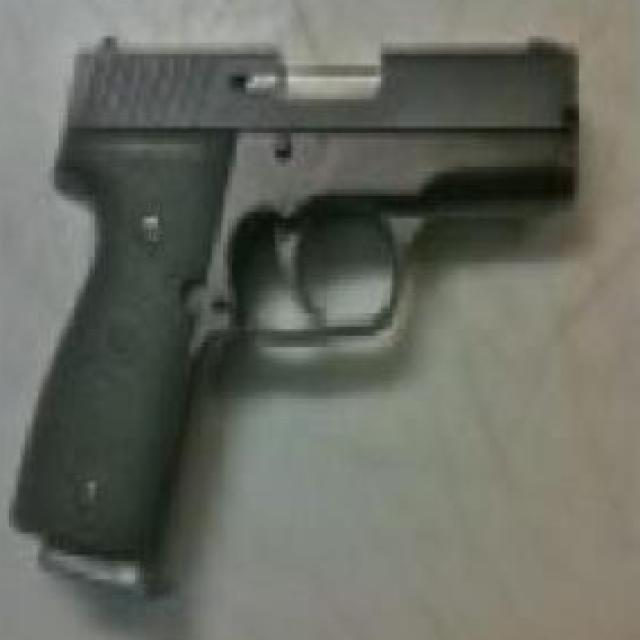pistol: (25, 27, 579, 585)
